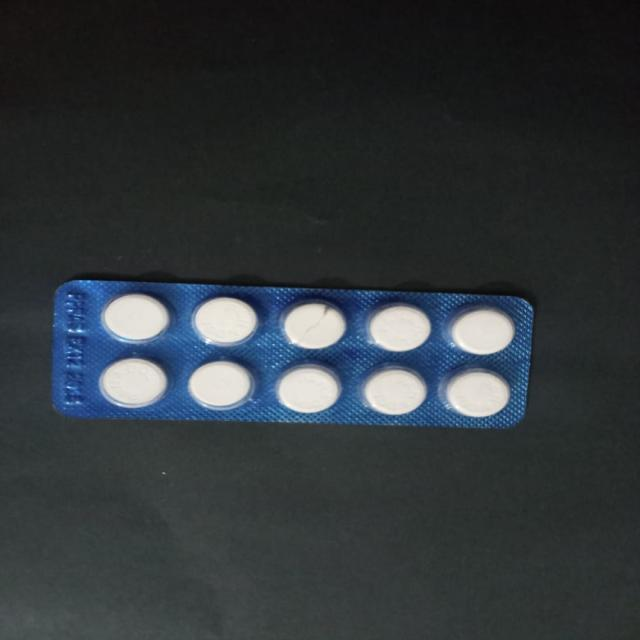defect: (276, 296, 350, 350)
